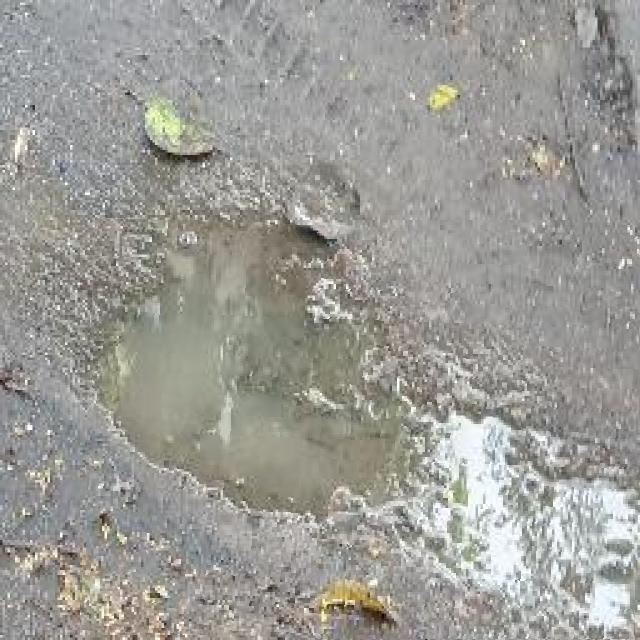puddle: (84, 223, 640, 640)
